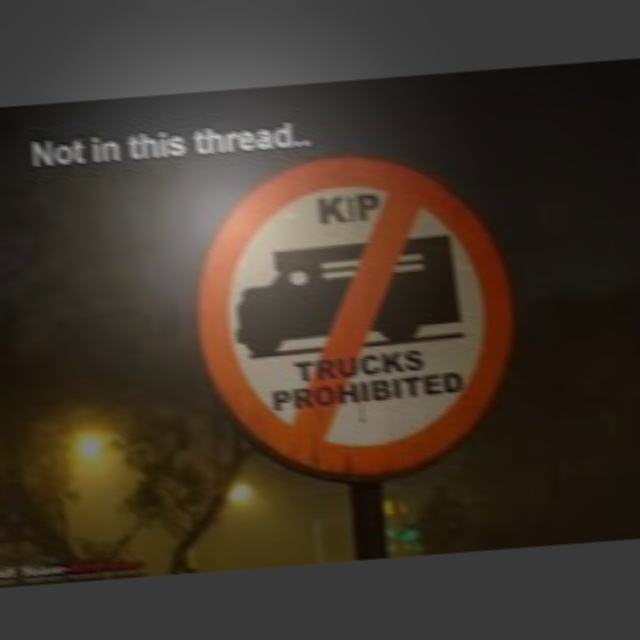Truck_Prohibited: (181, 142, 538, 494)
